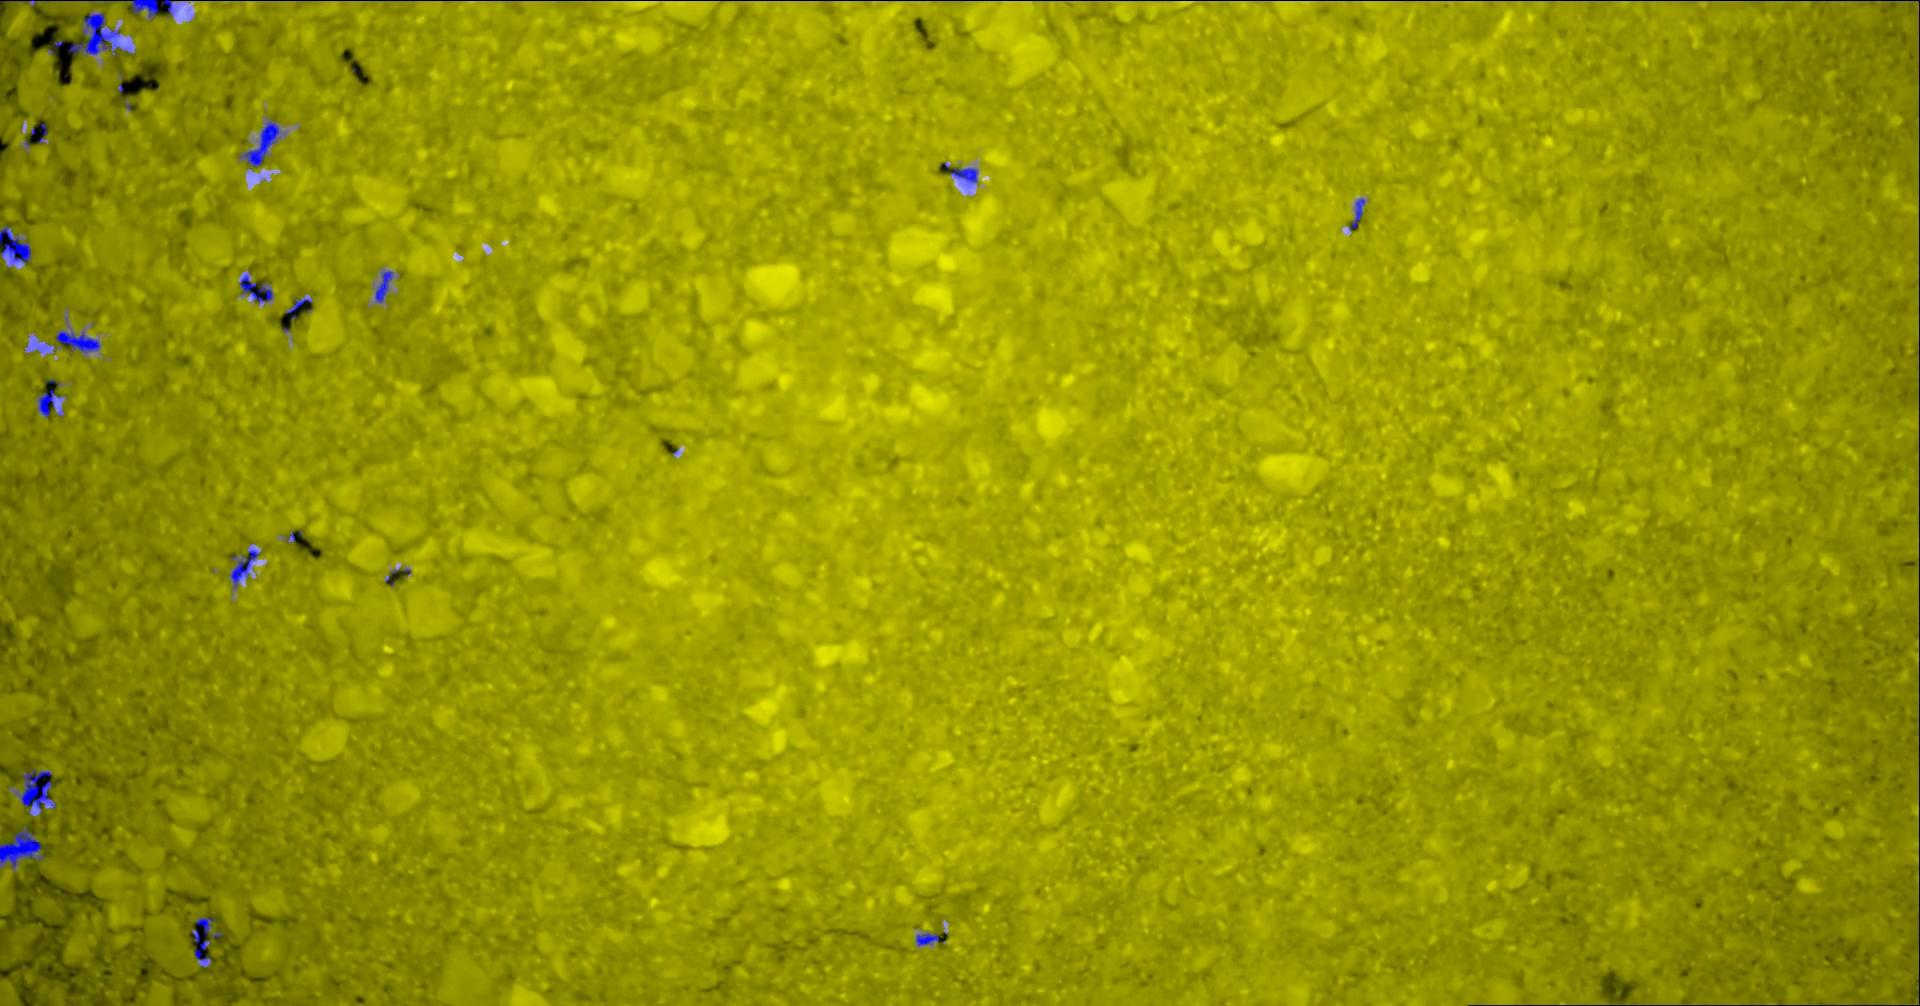ant: (67, 11, 119, 56), (0, 826, 44, 868), (240, 119, 279, 166), (15, 768, 55, 814), (190, 916, 221, 967), (0, 225, 30, 263), (229, 549, 258, 587), (55, 330, 99, 352), (239, 274, 272, 301), (130, 0, 173, 17), (37, 389, 60, 417), (375, 271, 392, 302), (284, 298, 311, 319), (1349, 198, 1364, 229), (950, 166, 977, 183), (916, 932, 943, 945)
